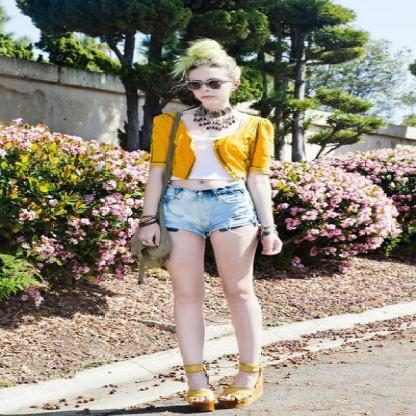bag: (123, 175, 178, 270)
jacket: (150, 113, 274, 184)
shirt: (188, 128, 222, 174)
shoe: (179, 363, 263, 402)
shorts: (156, 175, 264, 252)
